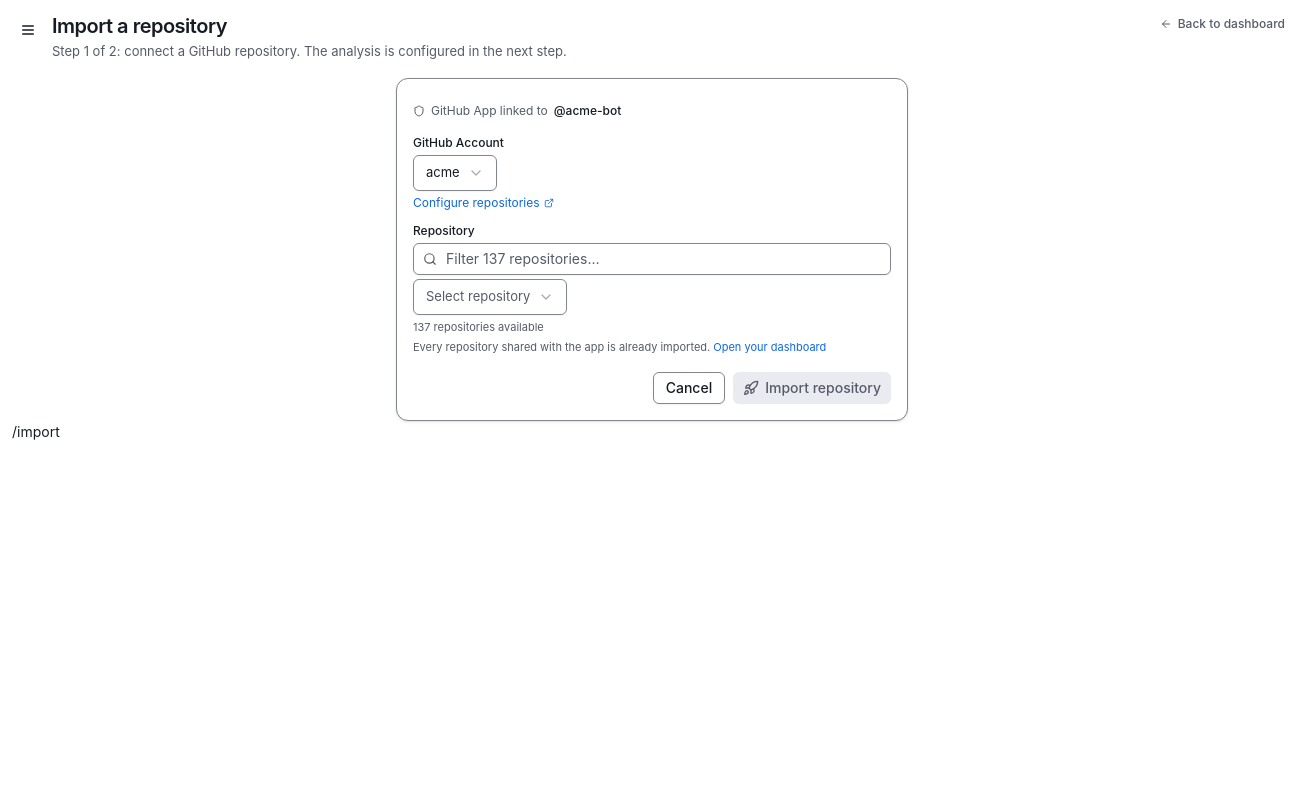
Test: ImportPage — already-imported repositories (#74/F4) › names the all-imported dead end and keeps the chooser openable
This screenshot has width=1292, height=812.
Check: the field named "Filter repositories" is shown, box [413,242,891,274]
Check: the dropdown named "GitHub account" reads "acme", box [413,154,497,190]
What coordinates should you click on to do the following:
click the dropdown labelled "repository"
I would click on:
 (490, 296)
Its box is [413,278,567,314].
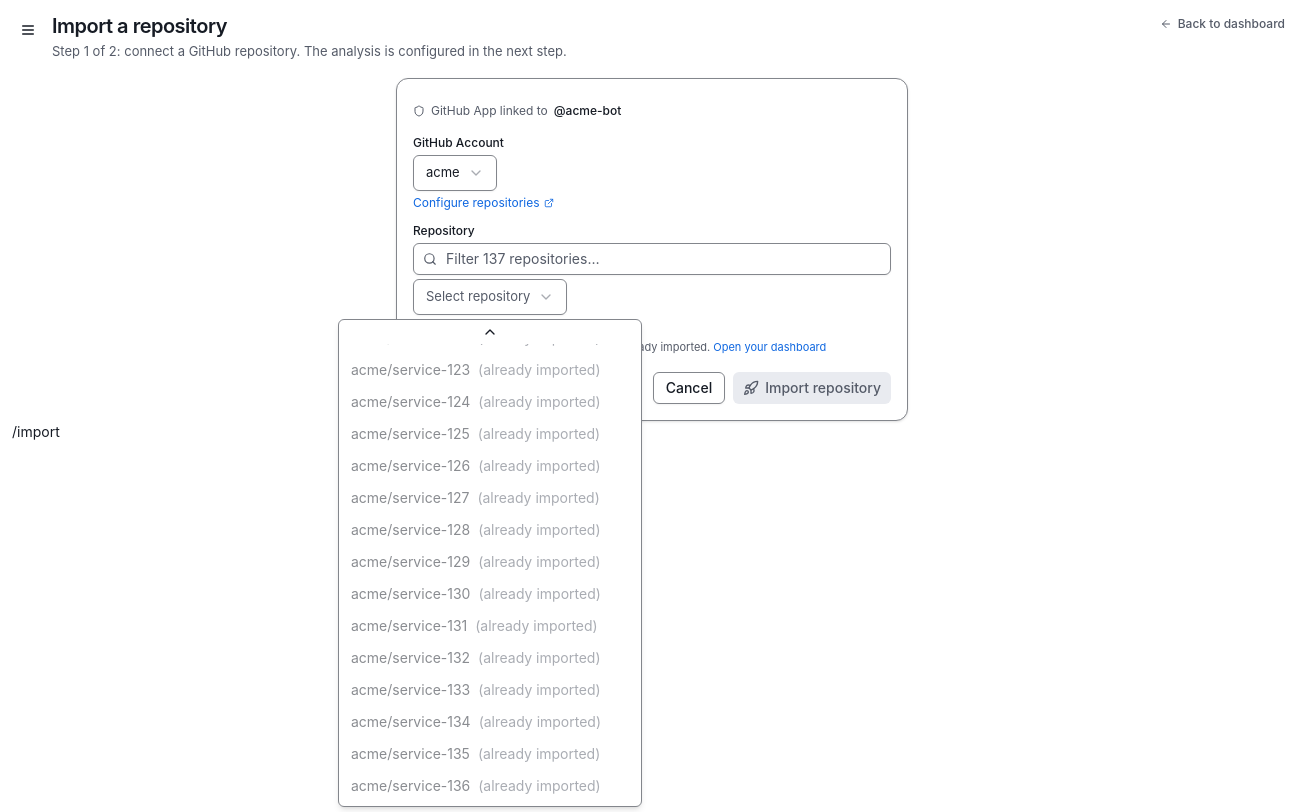
Check: the option "acme/service-123 (already imported)" is shown, box [351,361,600,378]
Check: the option "acme/service-124 (already imported)" is shown, box [351,393,601,410]
Check: the option "acme/service-125 (already imported)" is shown, box [351,425,600,442]
